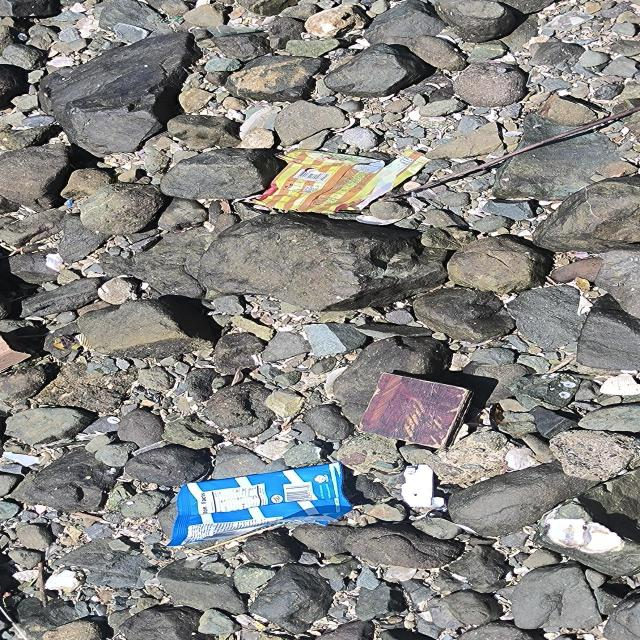plastic_waste: (166, 462, 354, 548), (245, 151, 434, 216)
wood_waste: (357, 373, 473, 451)
